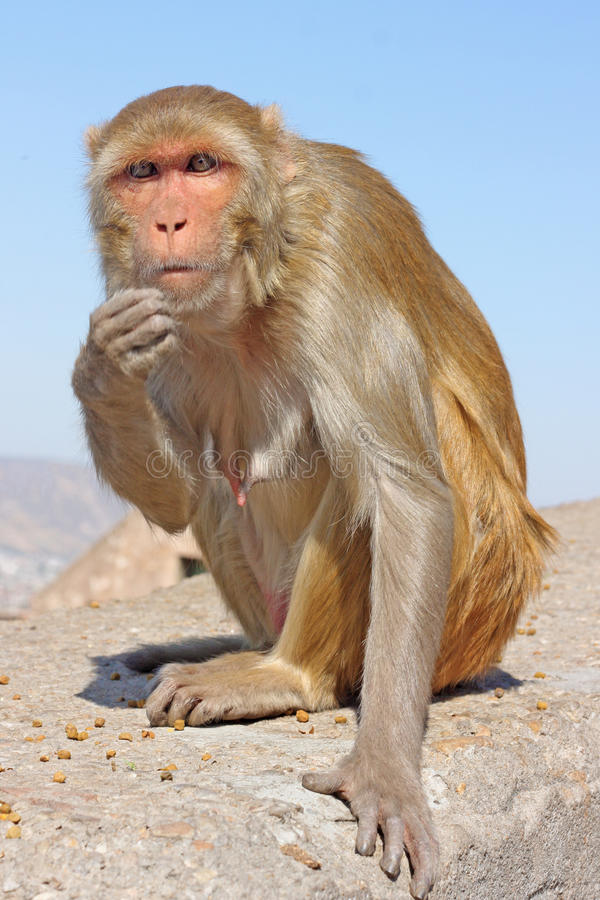monkey: (77, 82, 551, 889)
